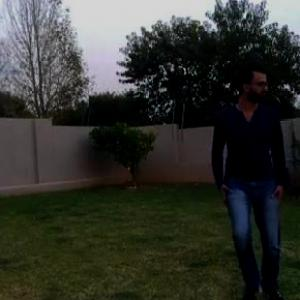follow: (210, 44, 295, 299)
